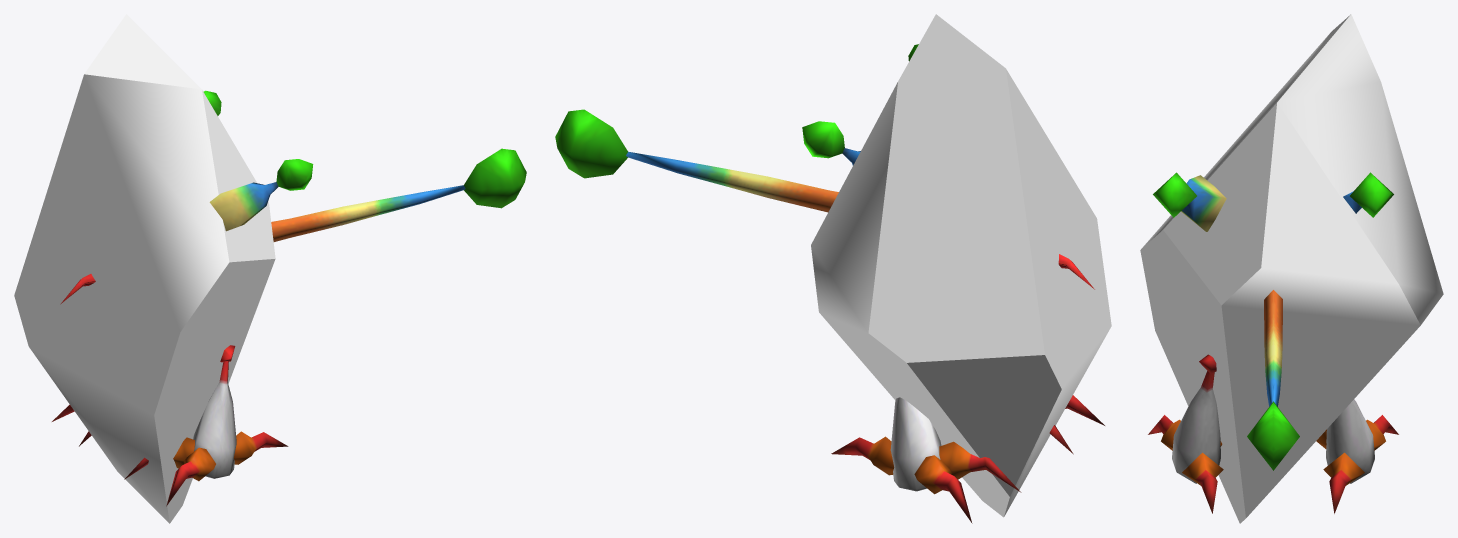
Rendered from DATSNIP.obj.
The picture shows the model from 3 angles, left to right: view 1: azimuth 30°, elevation 25°; view 2: azimuth 150°, elevation 25°; view 3: azimuth 270°, elevation 25°; orthographic projection. The views are drawn at different scales.
Parts seen in each view (by area): view 1: DATSNIP-14, DATSNIP-17, DATSNIP-16; view 2: DATSNIP-14, DATSNIP-17, DATSNIP-16; view 3: DATSNIP-14, DATSNIP-16, DATSNIP-17.
Boxes of the visible parts, <box> form: DATSNIP-14: <box>14,14,275,523</box>; DATSNIP-17: <box>203,90,526,241</box>; DATSNIP-16: <box>52,274,288,506</box>; DATSNIP-14: <box>811,14,1111,517</box>; DATSNIP-17: <box>555,44,918,212</box>; DATSNIP-16: <box>831,254,1104,523</box>; DATSNIP-14: <box>1140,14,1443,523</box>; DATSNIP-16: <box>1148,354,1398,513</box>; DATSNIP-17: <box>1153,172,1393,470</box>.
Bounding box in the file's own units: 11.26 × 10.83 × 5.79.
Materials: 3 (3 with a texture image).
